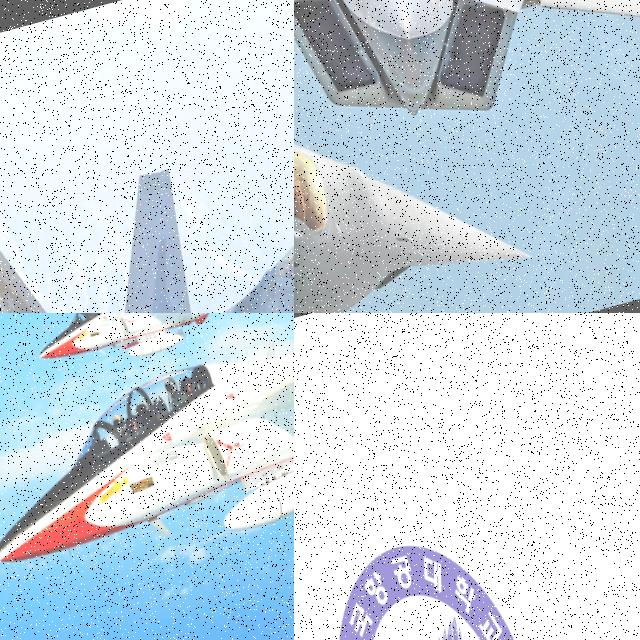F22: (294, 0, 640, 210), (0, 99, 294, 313)
KAU_Marker: (303, 525, 575, 640)
KT-1: (0, 313, 294, 594), (14, 313, 260, 381)
